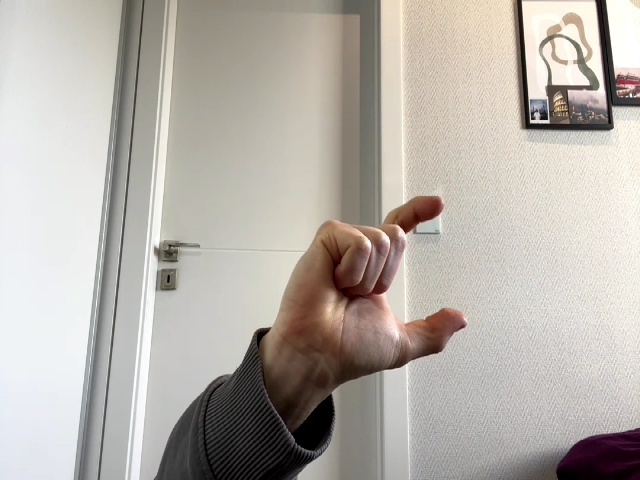C: (281, 196, 468, 385)
